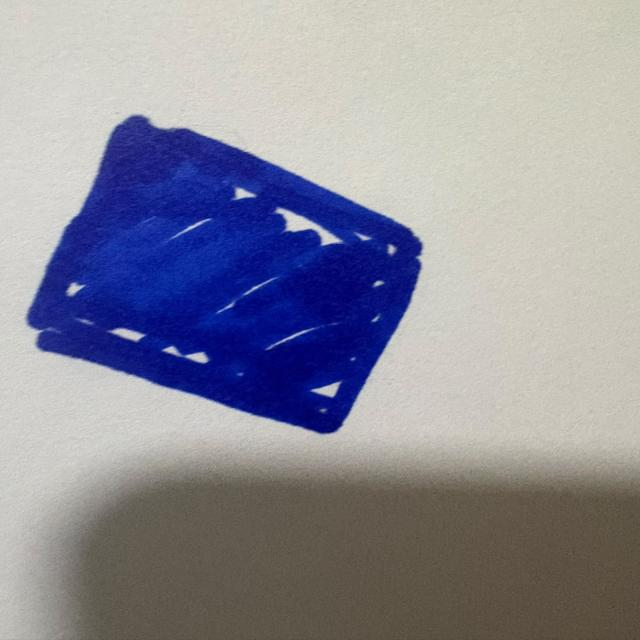Square: (28, 116, 420, 432)
